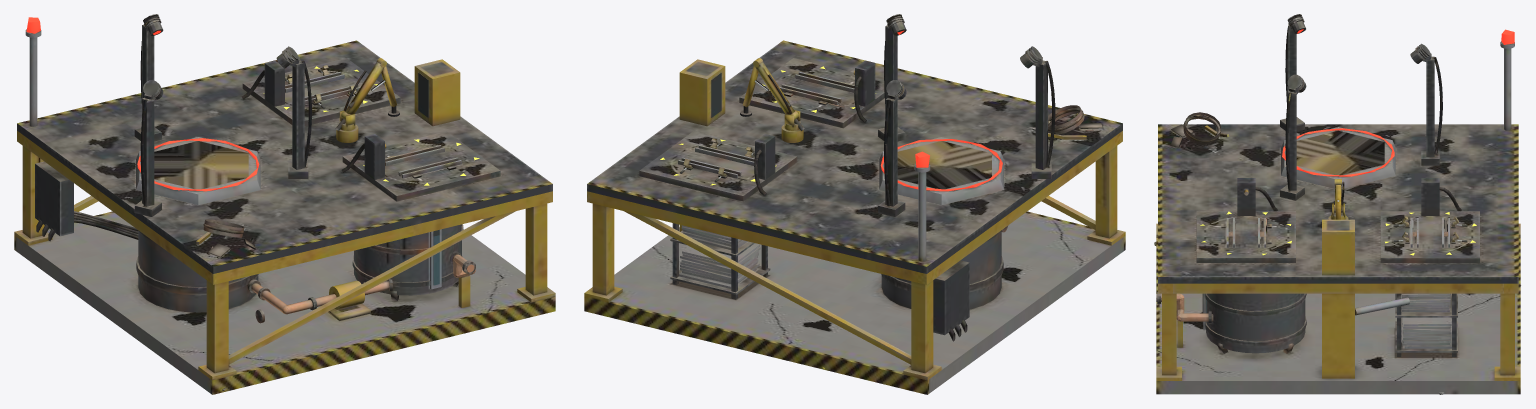
The model's file is estacao_drones.glb.
3 renders of one model, left to right at view 1: azimuth 30°, elevation 25°; view 2: azimuth 150°, elevation 25°; view 3: azimuth 270°, elevation 25°, orthographic. The views are drawn at different scales.
Visible parts, largest first — view 1: estacao_drones_corpo, berco0_luzes, estacao_drones_m14, estacao_drones_m13; view 2: estacao_drones_corpo, berco0_luzes, estacao_drones_m14, estacao_drones_m13; view 3: estacao_drones_corpo, berco0_luzes.
Boxes of the visible parts, <box> form: estacao_drones_corpo: <box>14,14,555,394</box>; berco0_luzes: <box>26,17,479,191</box>; estacao_drones_m14: <box>341,62,384,120</box>; estacao_drones_m13: <box>336,110,358,142</box>; estacao_drones_corpo: <box>584,14,1125,394</box>; berco0_luzes: <box>660,30,1002,191</box>; estacao_drones_m14: <box>755,62,798,120</box>; estacao_drones_m13: <box>781,110,803,142</box>; estacao_drones_corpo: <box>1154,14,1520,394</box>; berco0_luzes: <box>1200,29,1514,255</box>.
Size of the model in its own units: 2 by 1.41 by 2.
3 materials, 1 textured.
